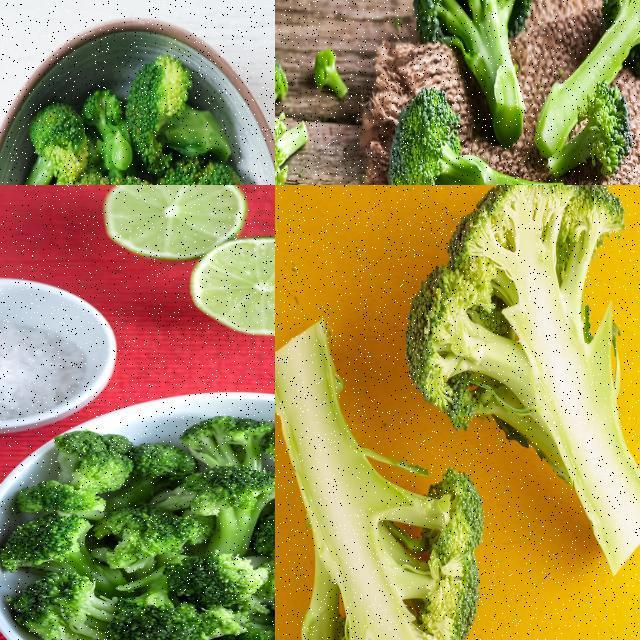broccoli: (403, 185, 639, 584), (275, 307, 490, 639), (533, 0, 639, 184), (380, 82, 566, 184), (411, 0, 542, 143), (0, 512, 128, 619), (129, 54, 227, 178), (84, 506, 210, 580), (183, 463, 274, 564), (0, 98, 89, 184), (50, 434, 137, 507), (111, 599, 237, 639), (275, 110, 309, 184)
